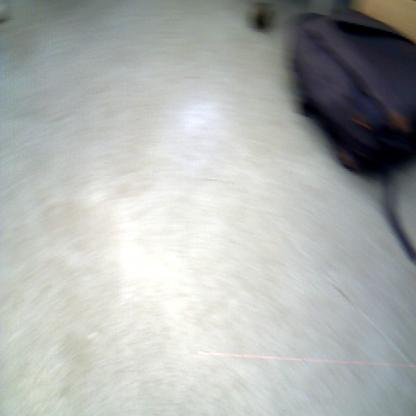mark: (326, 279, 354, 309), (202, 176, 220, 184), (184, 74, 202, 80)
